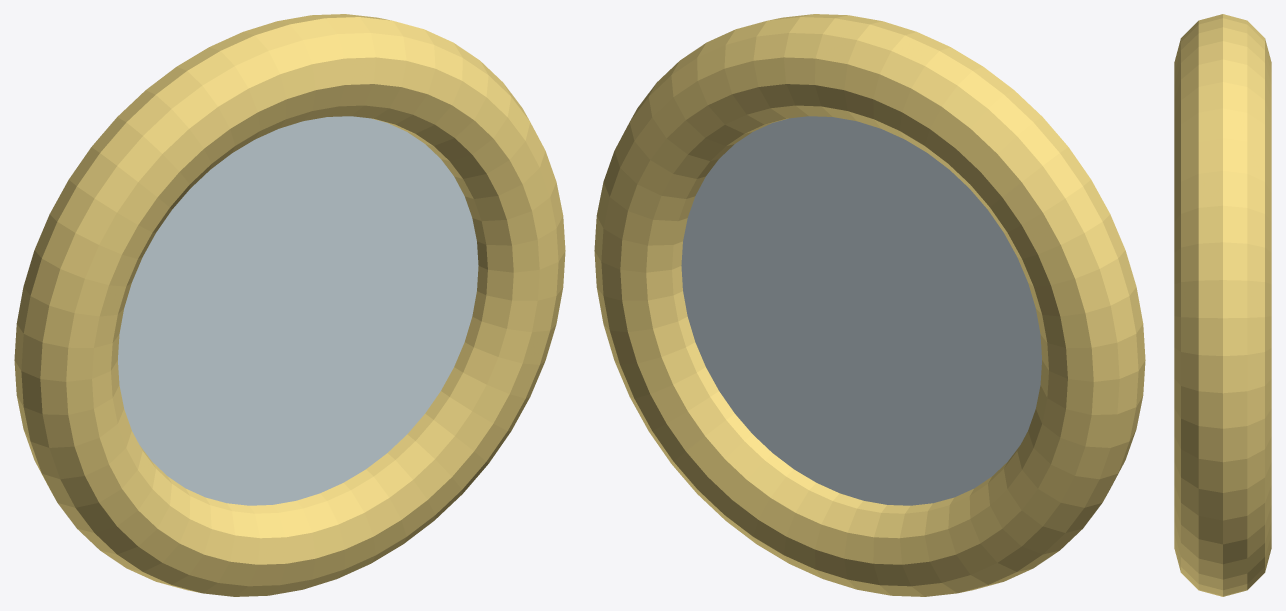
Rendered from monocle.glb.
The picture shows the model from 3 angles, left to right: view 1: azimuth 30°, elevation 25°; view 2: azimuth 150°, elevation 25°; view 3: azimuth 270°, elevation 25°; orthographic projection. The views are drawn at different scales.
Visible parts, largest first — view 1: ring.001, glas; view 2: ring.001, glas; view 3: ring.001.
Boxes of the visible parts, x1,y1,x2,y2 form: ring.001: (14, 14, 565, 596); glas: (118, 116, 478, 505); ring.001: (594, 14, 1145, 596); glas: (681, 116, 1041, 505); ring.001: (1174, 14, 1271, 596).
Size of the model in its own units: 0.048 by 0.048 by 0.008.
